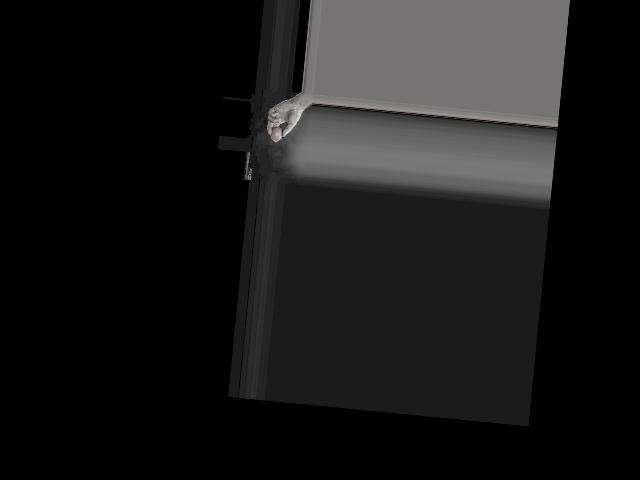egg: (270, 125, 283, 141)
